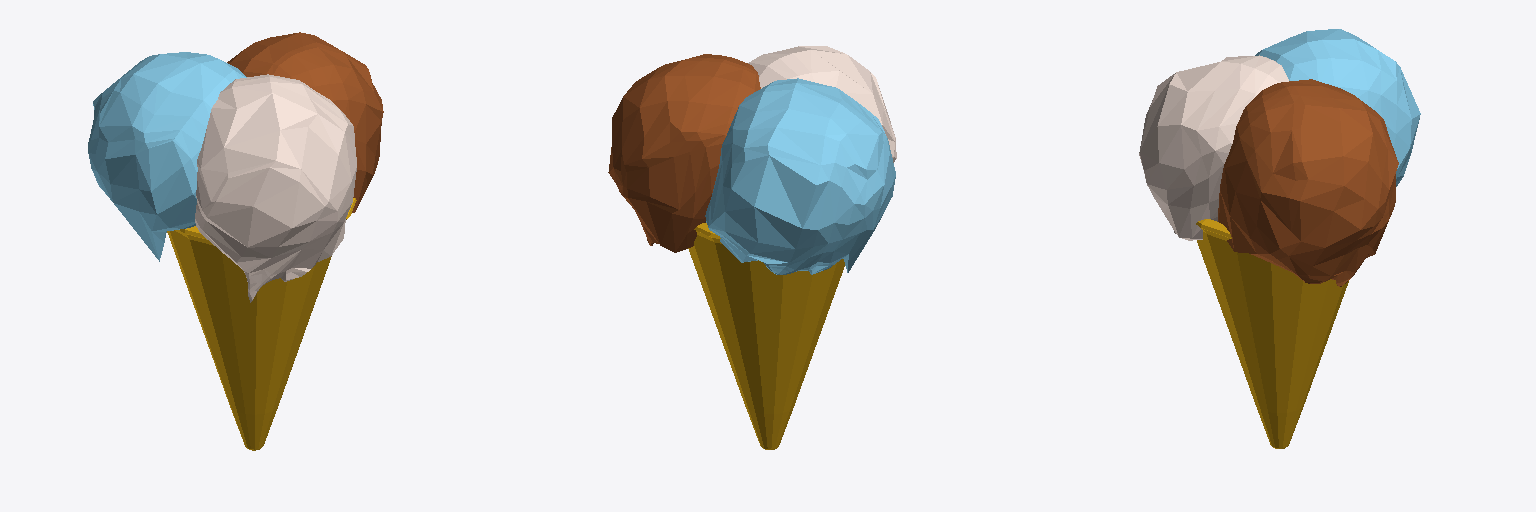
3 views of the same model, side by side, from view 1: azimuth 30°, elevation 25°; view 2: azimuth 150°, elevation 25°; view 3: azimuth 270°, elevation 25° (orthographic).
Visible parts, largest first — view 1: ice_cream; view 2: ice_cream; view 3: ice_cream.
Boxes of the visible parts, box(x1,y1,x2,y2) form: ice_cream: box(88, 32, 383, 450); ice_cream: box(608, 46, 896, 449); ice_cream: box(1139, 29, 1420, 448).
Size of the model in its own units: 1.1 by 1.53 by 1.01.
1 materials, 1 textured.